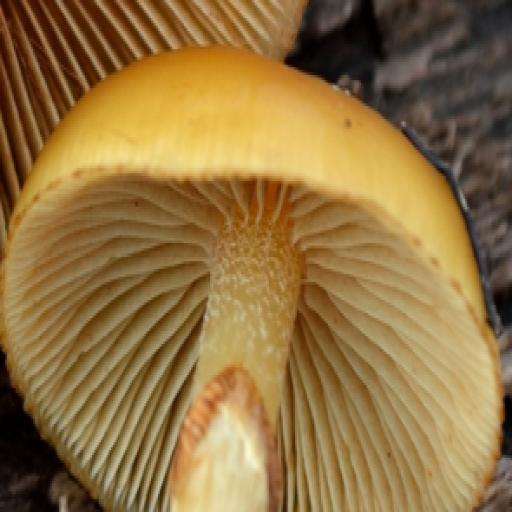mushroom: (0, 45, 503, 509)
